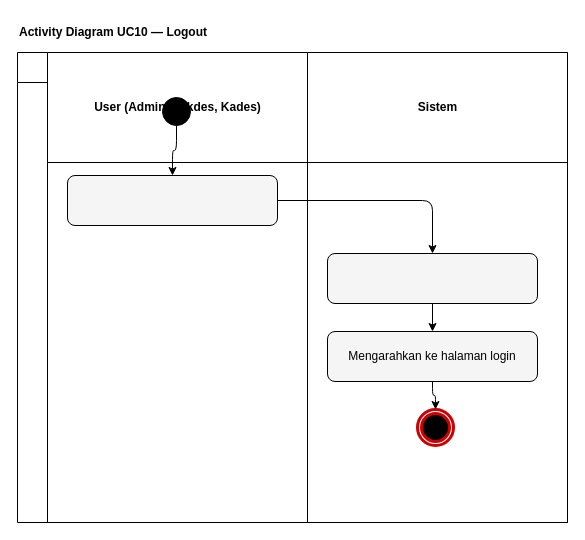
Image size: 585x540. Some labels were removed from this diagram. Each missing label, with the centre of its shape:
"Memilih Logout pada menu profil" goes at [172,200].
"Mengakhiri sesi dan menghapus autentikasi" goes at [432,278].
